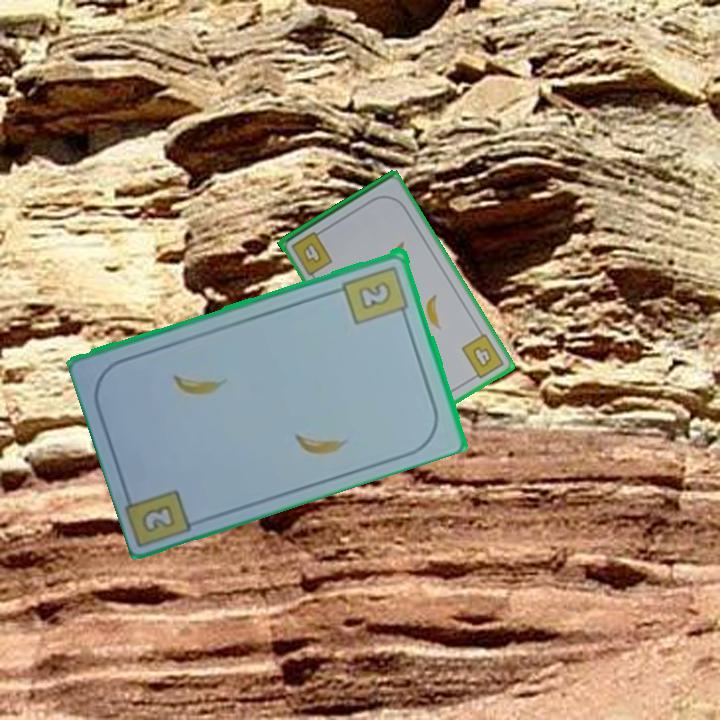2b: (339, 261, 412, 327), (138, 500, 179, 536)
4b: (458, 330, 507, 384), (287, 226, 336, 278)
